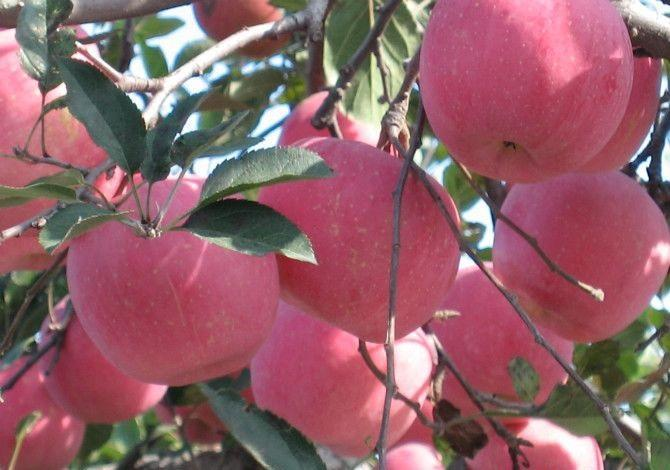apple: (64, 176, 281, 383), (251, 137, 459, 342), (418, 1, 634, 184), (1, 22, 144, 274), (492, 170, 670, 342), (250, 300, 436, 459), (434, 266, 573, 419), (40, 294, 168, 421), (1, 359, 84, 470)
